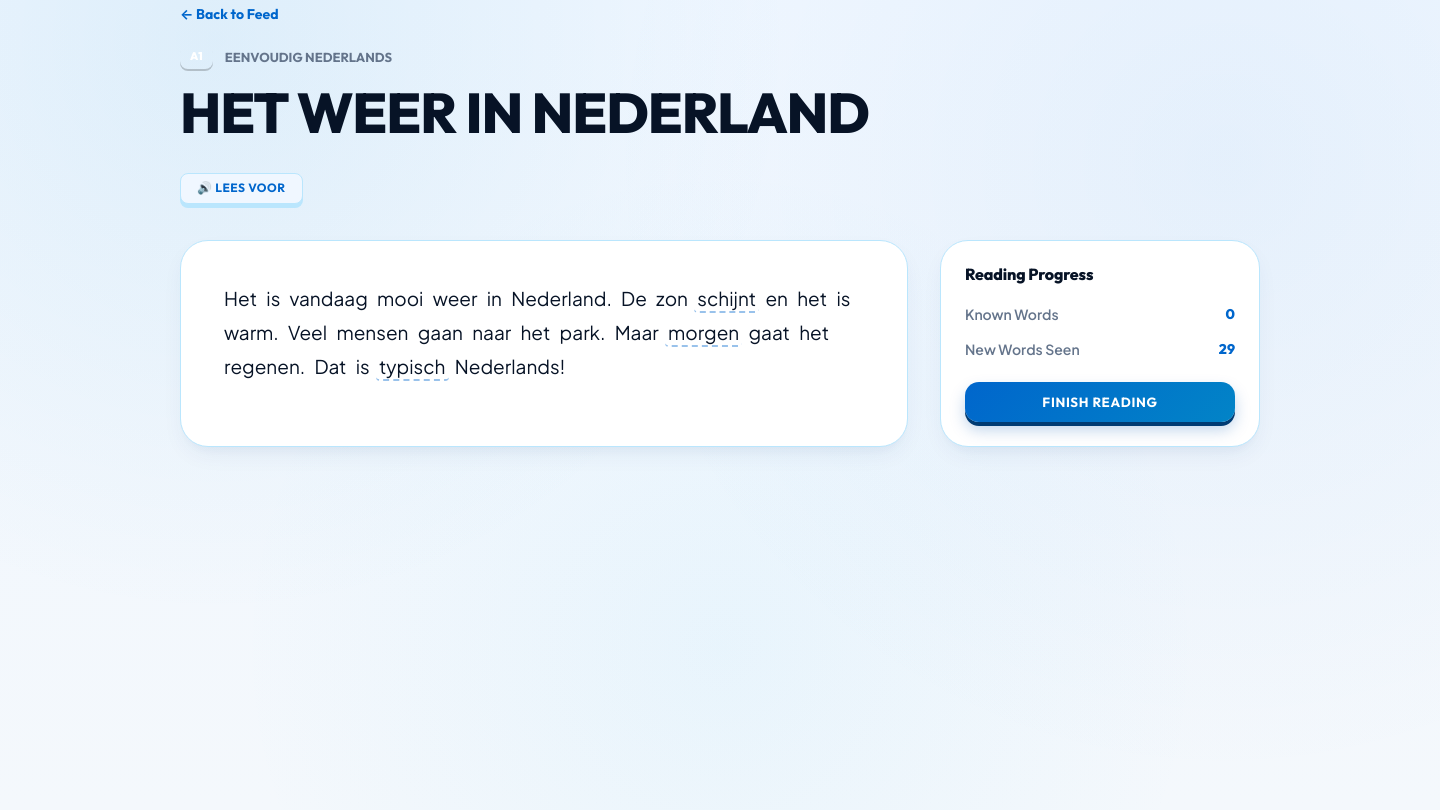
Test: reading article page › shows a hint and records exposure when a hintable word is clicked
Click the text with class "word" showing "schijnt" at (727, 299), box [694,285,759,313]
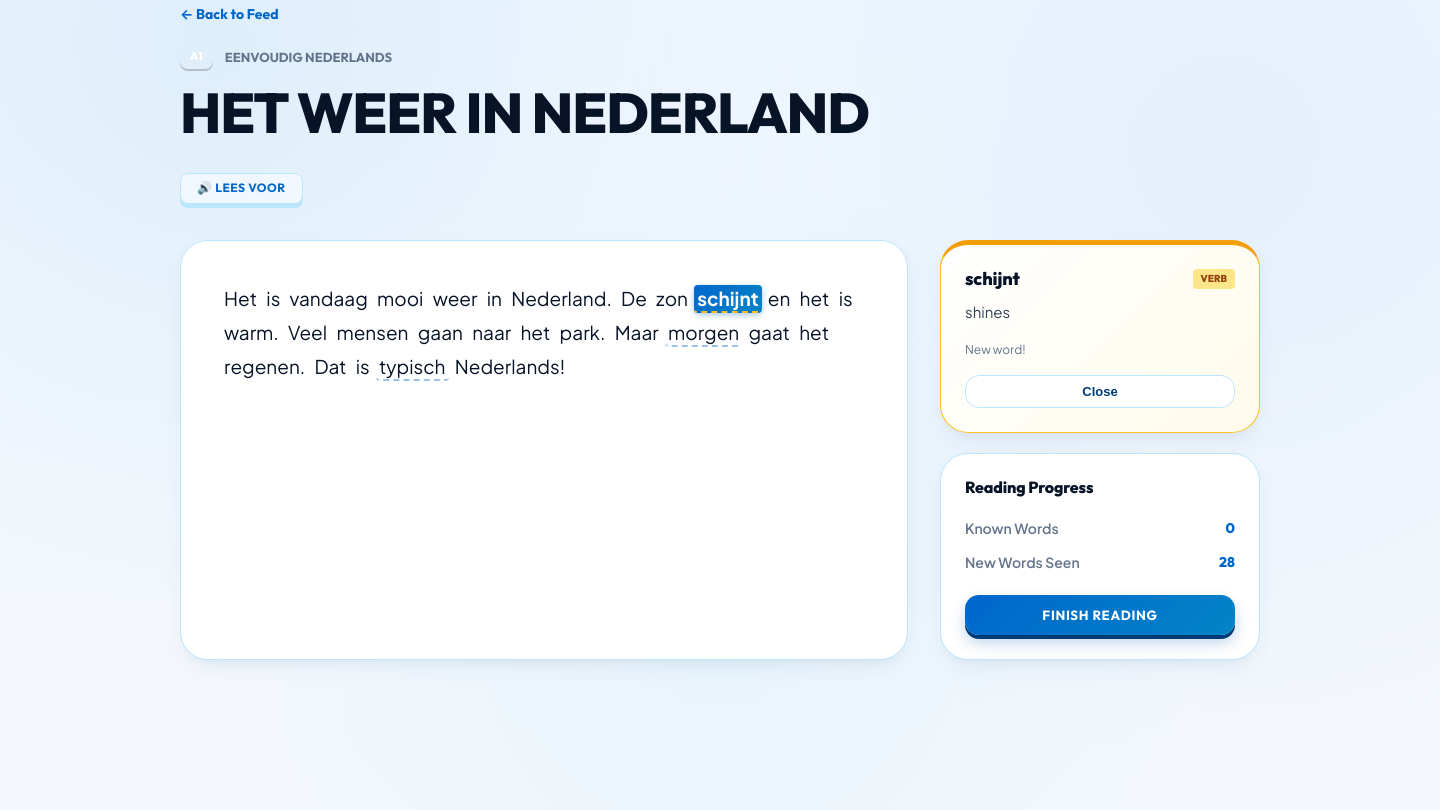
expect the element with class "word-card" is shown: met, box [940,240,1260,433]
expect the text "shines" is shown: met, box [965,302,1010,322]
